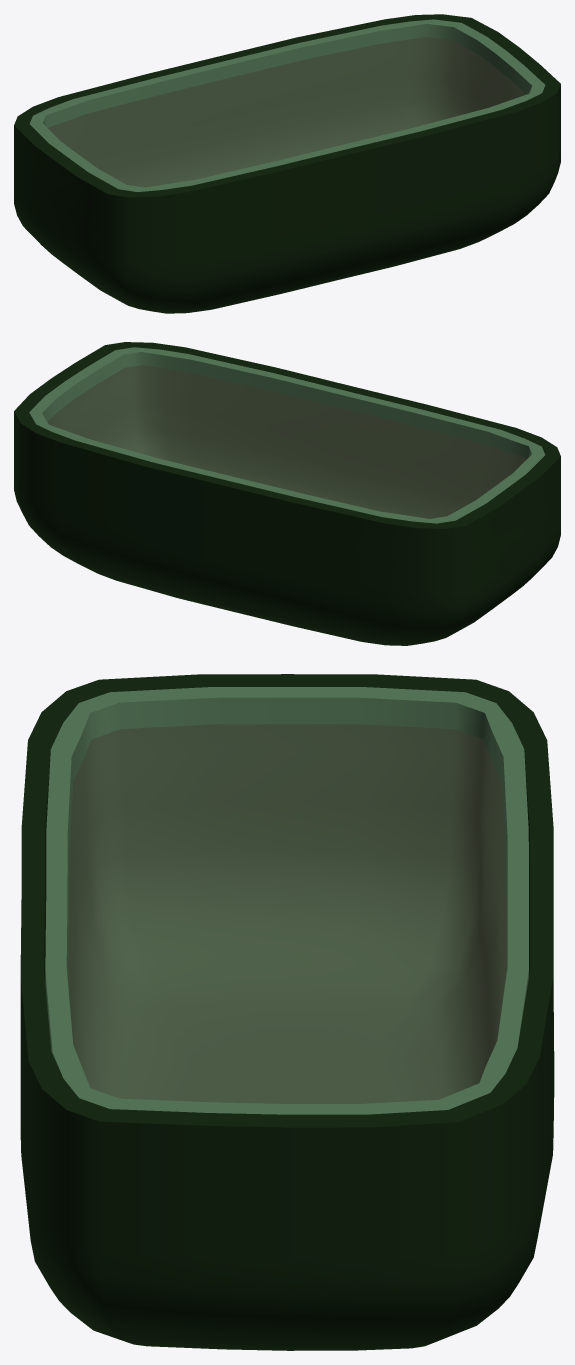
Rendered from Plant_Cell.FBX.
The picture shows the model from 3 angles, top to bottom: view 1: azimuth 30°, elevation 25°; view 2: azimuth 150°, elevation 25°; view 3: azimuth 270°, elevation 25°; orthographic projection. The views are drawn at different scales.
Parts seen in each view (by area): view 1: Cell_Wall_Plant_Cell, Plant_Cell_Plant_Membrane, Plant_Cell_Cell_Goo; view 2: Cell_Wall_Plant_Cell, Plant_Cell_Plant_Membrane, Plant_Cell_Cell_Goo; view 3: Plant_Cell_Plant_Membrane, Plant_Cell_Cell_Goo, Cell_Wall_Plant_Cell.
Boxes of the visible parts, x1,y1,x2,y2 form: Cell_Wall_Plant_Cell: (14,14,560,313); Plant_Cell_Plant_Membrane: (29,19,545,191); Plant_Cell_Cell_Goo: (48,37,525,187); Cell_Wall_Plant_Cell: (14,342,560,645); Plant_Cell_Plant_Membrane: (29,347,544,523); Plant_Cell_Cell_Goo: (47,365,526,518); Plant_Cell_Plant_Membrane: (45,687,528,1114); Plant_Cell_Cell_Goo: (68,724,505,1103); Cell_Wall_Plant_Cell: (20,674,554,1350).
Size of the model in its own units: 282 by 80.9 by 140.
